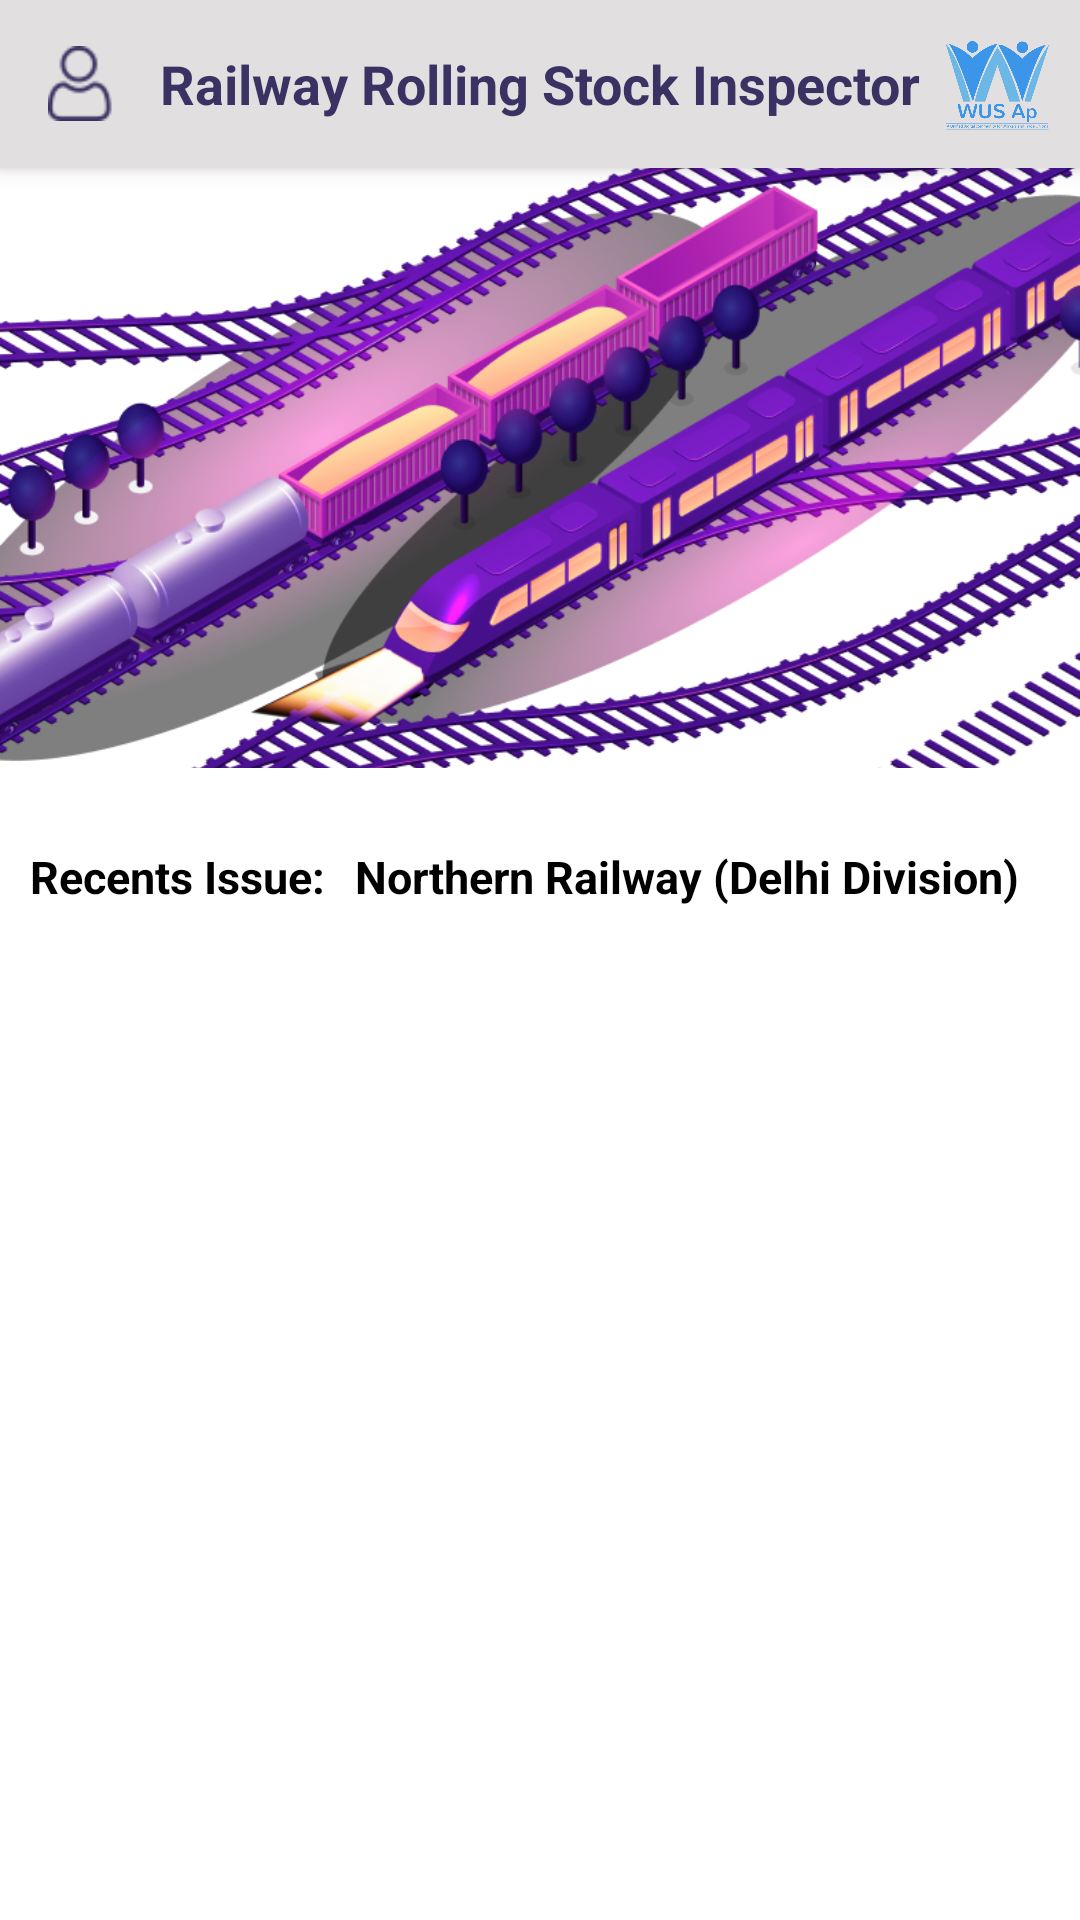

Screen size 1080px x 1920px. Icon name, then its center in pixels as point (x, y):
user: point (80, 83)
